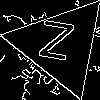Z: (35, 19, 75, 70)
